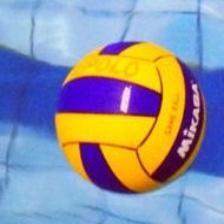Sports-Ball: (54, 37, 207, 195)
